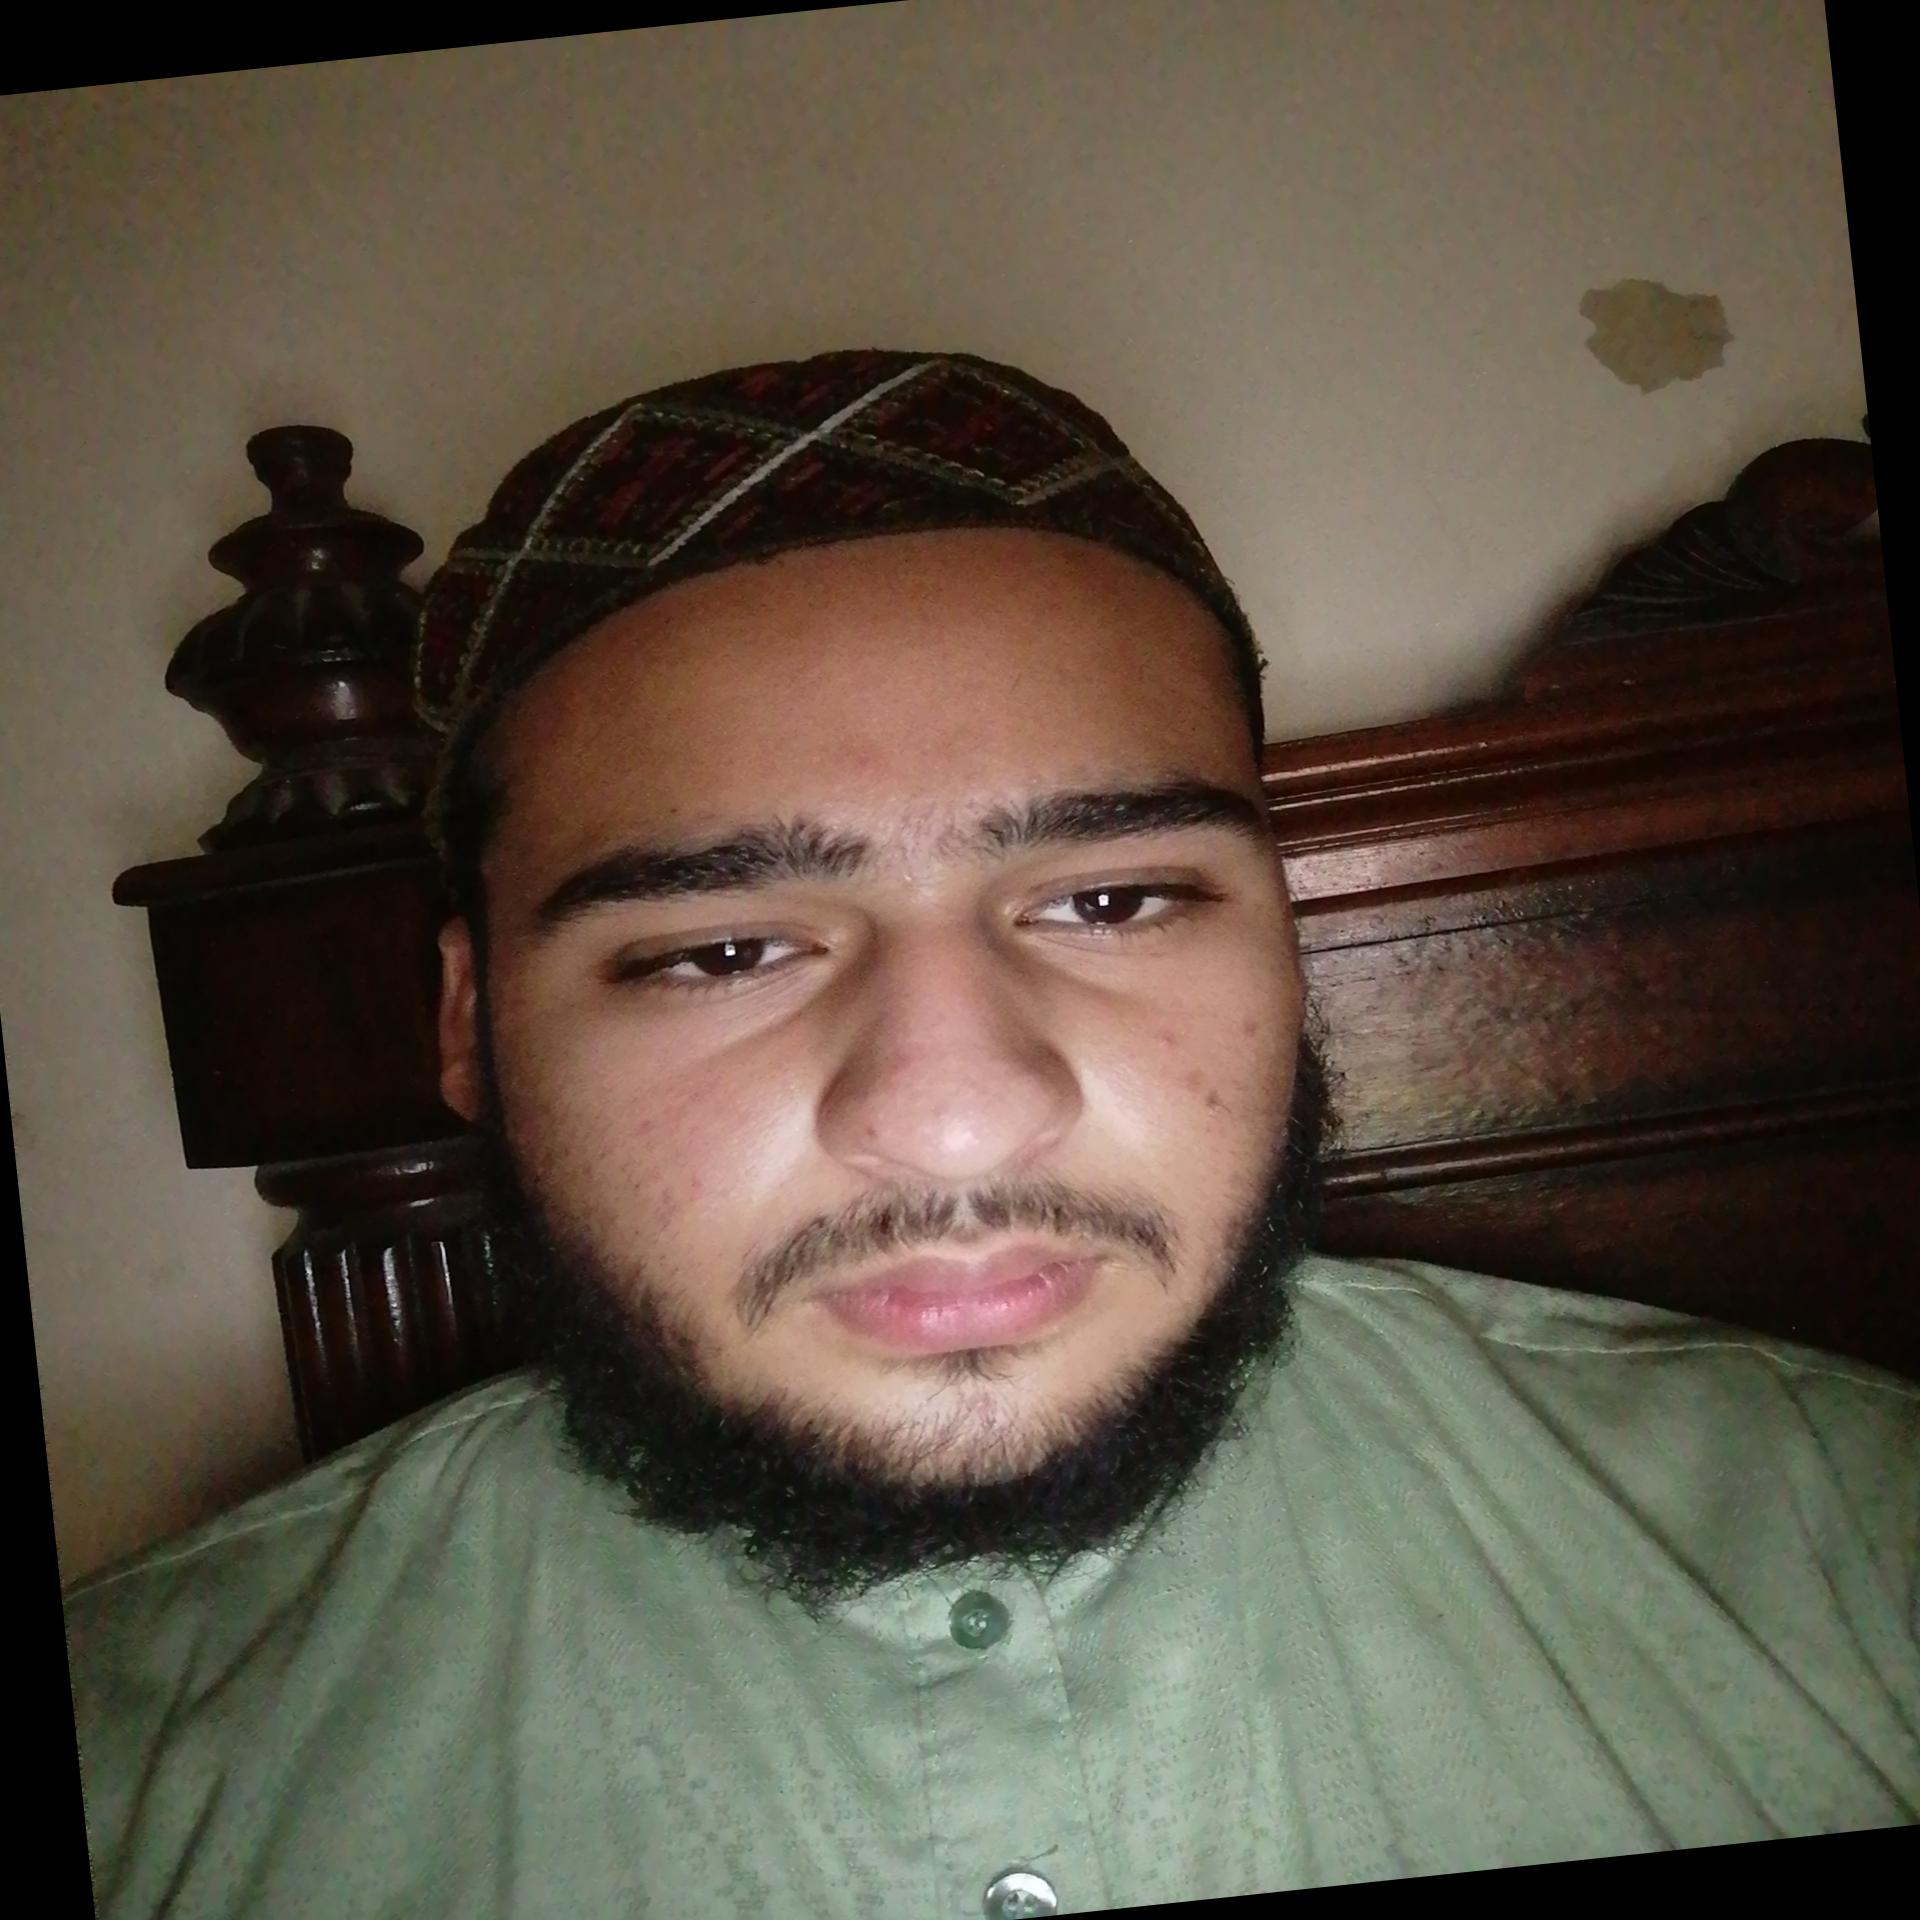Acne: (642, 1162, 716, 1231), (1178, 1060, 1229, 1120), (877, 1043, 921, 1080), (842, 738, 883, 777), (964, 1393, 997, 1421), (1234, 1016, 1266, 1044), (629, 1111, 659, 1132), (1152, 1029, 1178, 1050), (858, 1120, 884, 1141)
